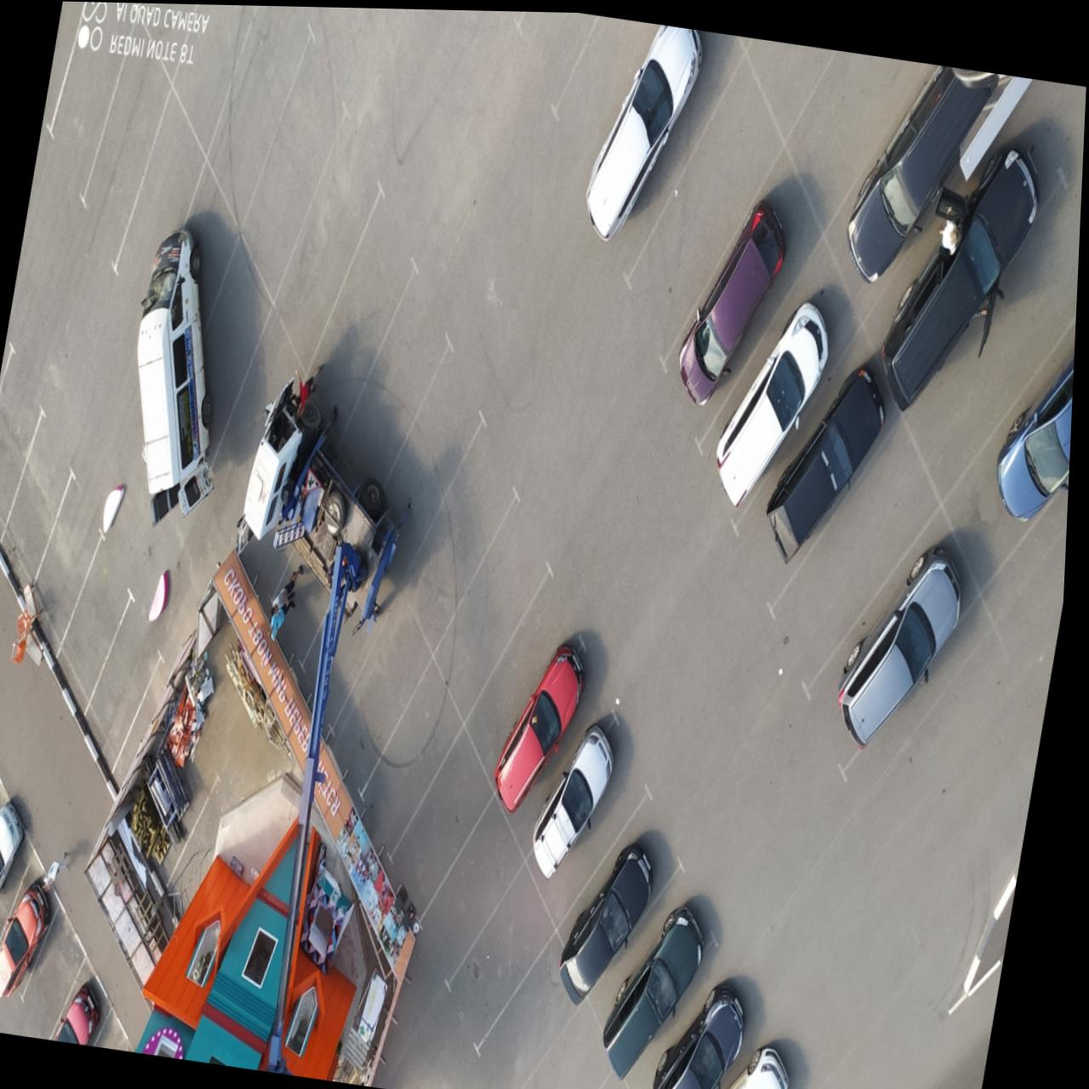cars: (864, 122, 1068, 439), (674, 250, 866, 558), (643, 174, 843, 464), (544, 15, 732, 306), (826, 54, 1022, 321), (737, 329, 915, 609), (283, 199, 456, 478), (817, 511, 979, 790), (357, 334, 513, 593), (468, 533, 621, 792), (960, 288, 1077, 621), (489, 610, 642, 863), (321, 274, 463, 508), (548, 784, 693, 1009), (155, 223, 274, 497), (192, 302, 314, 568), (102, 95, 216, 376), (586, 878, 730, 1089), (130, 173, 249, 420), (529, 711, 663, 930), (294, 497, 402, 753), (66, 569, 187, 776), (325, 569, 424, 806), (635, 952, 765, 1089)
empty: (584, 88, 799, 407), (746, 413, 946, 739), (926, 187, 1082, 505), (251, 130, 416, 385), (432, 475, 576, 729), (371, 706, 511, 967), (392, 422, 545, 648), (219, 58, 360, 292), (69, 20, 181, 310), (190, 4, 328, 217), (438, 851, 562, 1084), (32, 1, 150, 242), (355, 619, 457, 891), (403, 774, 523, 1005), (0, 367, 97, 637), (17, 438, 118, 680), (37, 522, 158, 719), (476, 921, 595, 1089), (153, 4, 282, 155), (0, 336, 56, 558)
